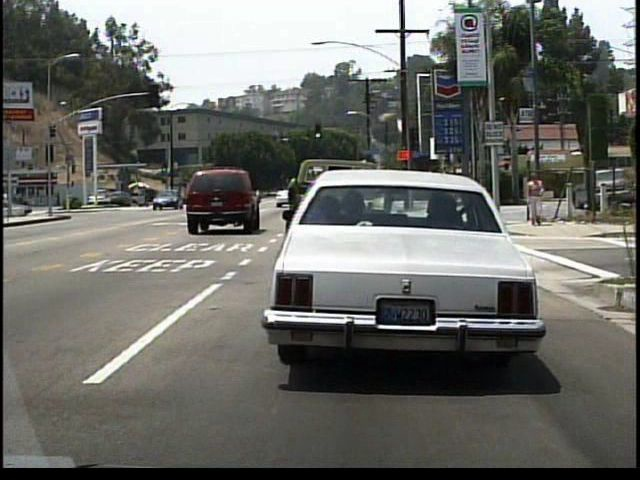person: (526, 173, 545, 230)
